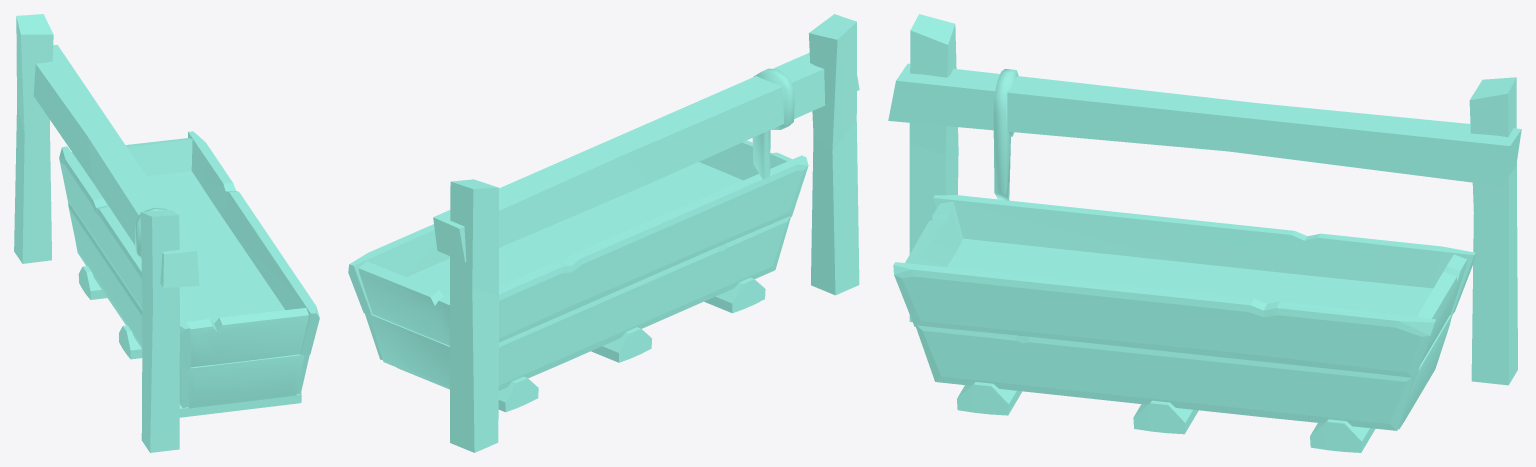
The model's file is waterTrough-positioned.glb.
3 views of the same model, side by side, from view 1: azimuth 30°, elevation 25°; view 2: azimuth 150°, elevation 25°; view 3: azimuth 270°, elevation 25° (orthographic). The views are drawn at different scales.
Parts seen in each view (by area): view 1: waterTrough-Glow; view 2: waterTrough-Glow; view 3: waterTrough-Glow.
Boxes of the visible parts, x1,y1,x2,y2 form: waterTrough-Glow: (14,14,319,452); waterTrough-Glow: (348,14,859,452); waterTrough-Glow: (888,14,1521,452).
Size of what is drawn, in the model's own units: 2.39 by 2.15 by 4.17.
Materials: 2 (2 with a texture image).
